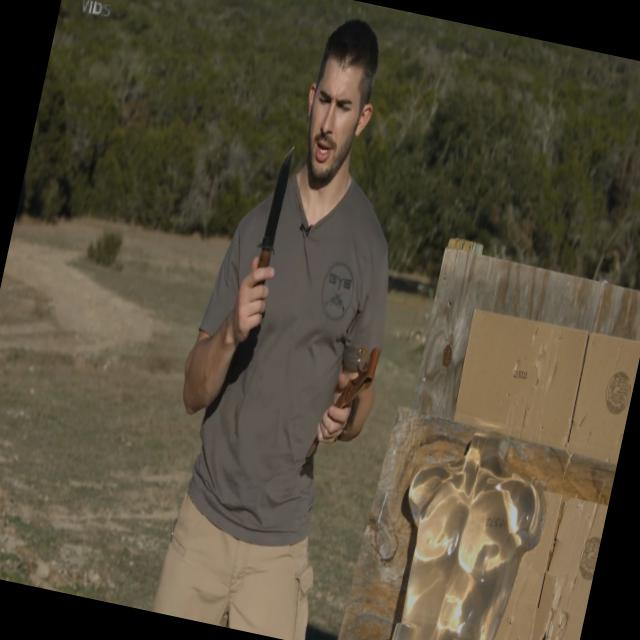knife: (226, 132, 304, 332)
